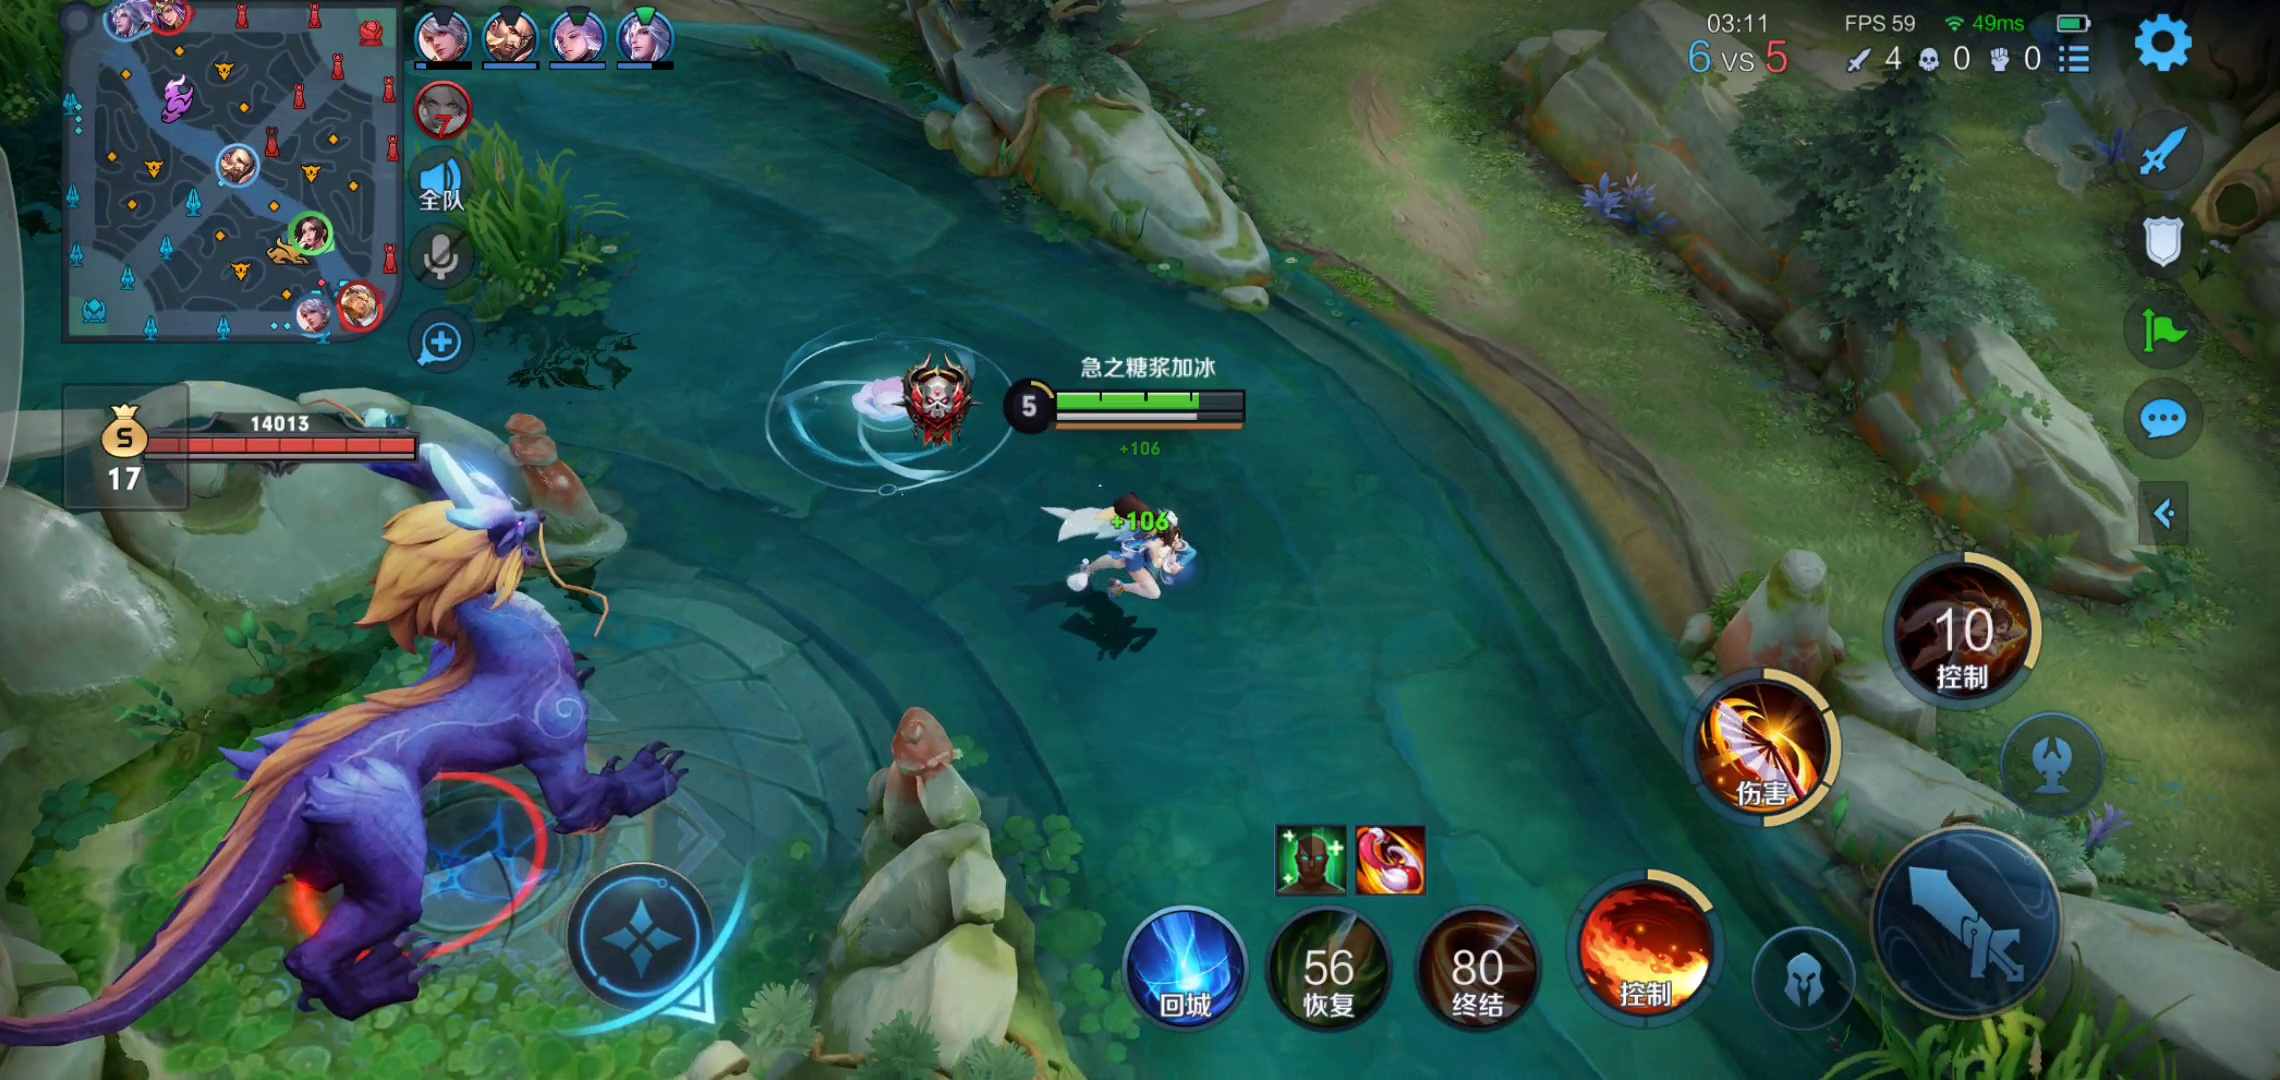dragon: (74, 500, 726, 1007)
grass: (1866, 977, 2178, 1080), (451, 135, 614, 323)
hero: (1035, 471, 1208, 629)
